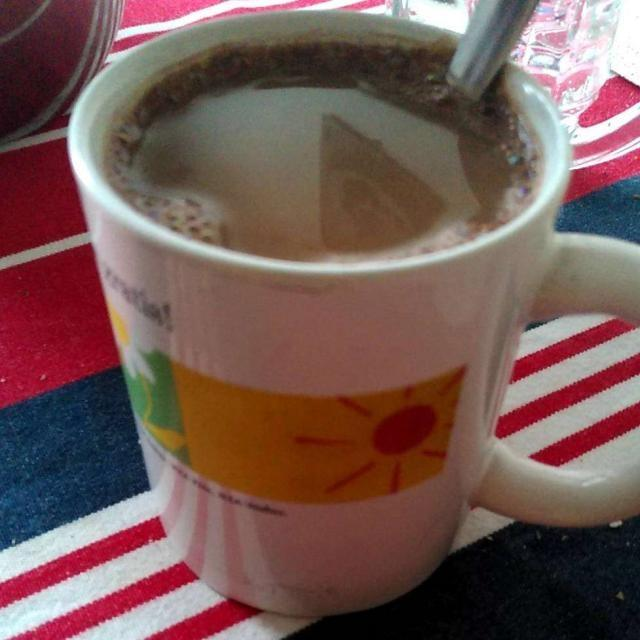coffee: (112, 25, 541, 255)
